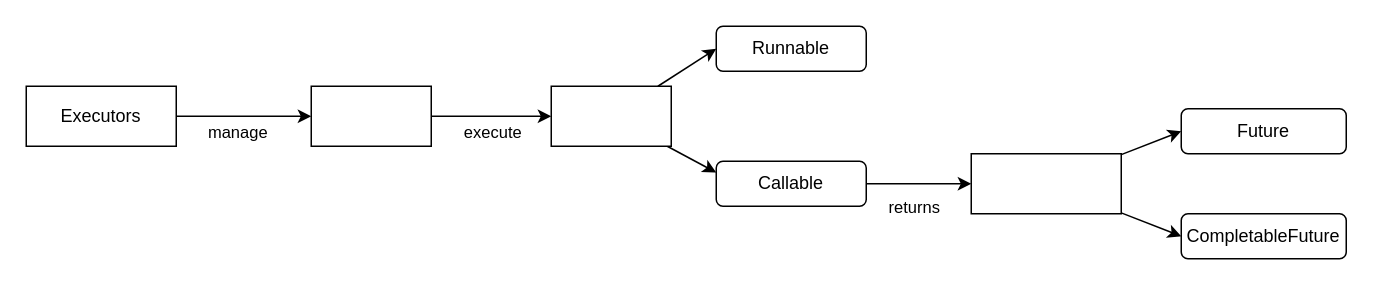
Some shapes in this 1373 by 285 pixel diagram are drawn without their labels. Here are the shapes that lost their labels. From the top down, the box of each, then its label:
(310, 85, 431, 146): Thread
(550, 85, 671, 146): Task
(970, 152, 1121, 214): AsyncResult
